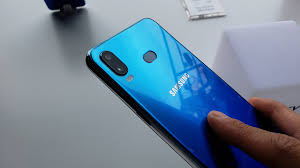samsung: (82, 15, 282, 167)
